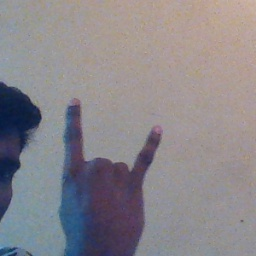V: (56, 96, 166, 246)
